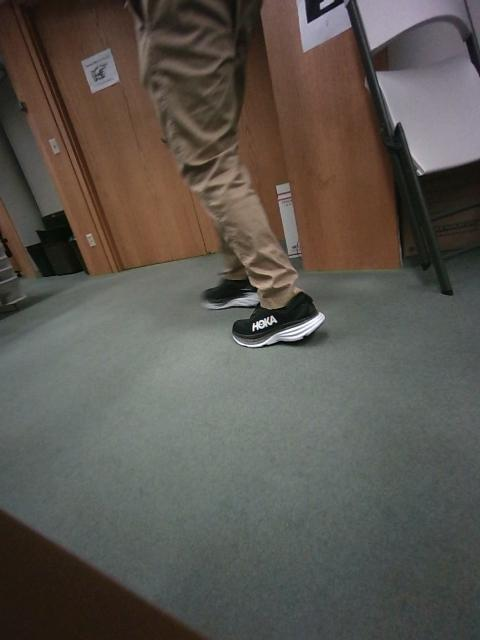block: (354, 297, 403, 372)
